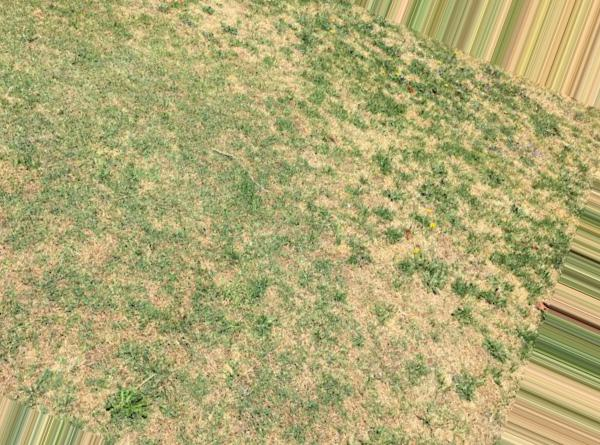patch: (294, 104, 411, 204), (204, 16, 317, 80), (369, 235, 441, 325), (34, 317, 122, 384)
